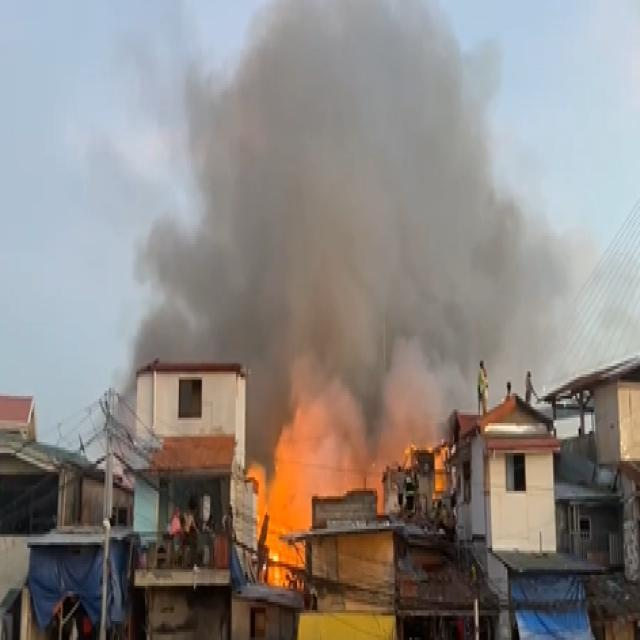Fire: (261, 450, 290, 582)
Smoke: (161, 11, 547, 346), (286, 376, 358, 497)
